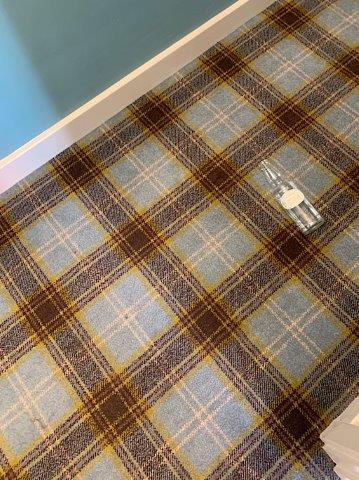botolkaca: (259, 160, 323, 233)
